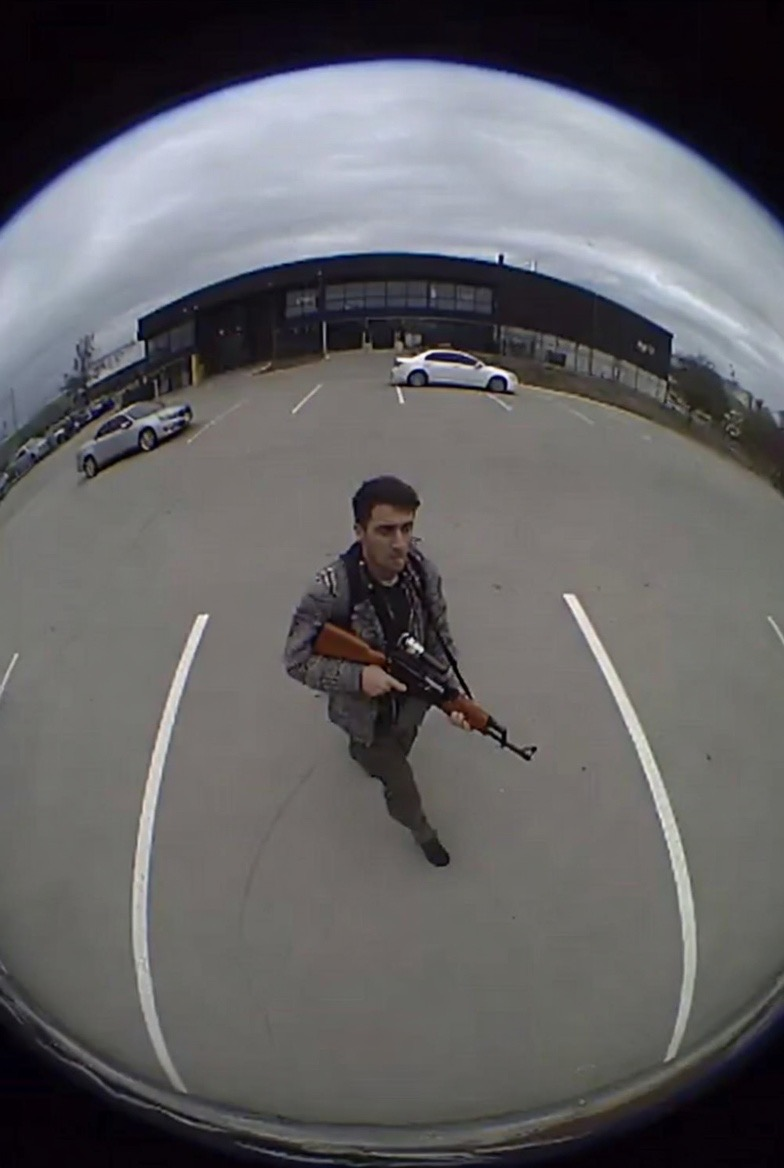person: (282, 475, 498, 870)
weapon: (311, 620, 540, 762)
